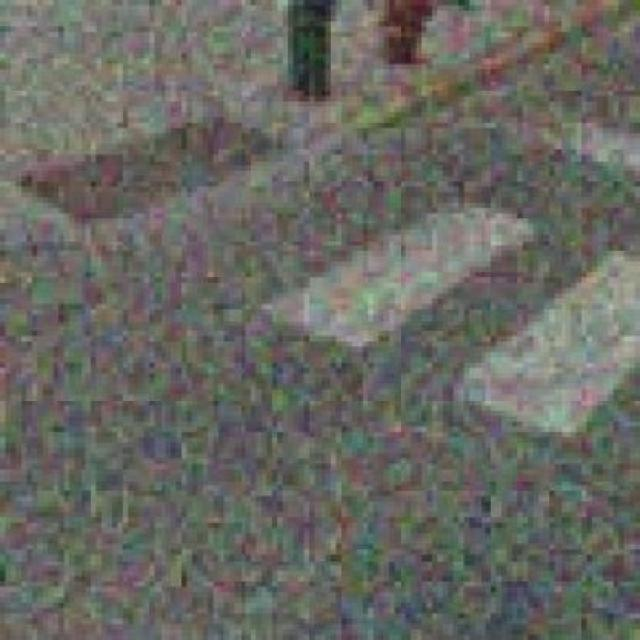crosswalk: (245, 196, 640, 465)
